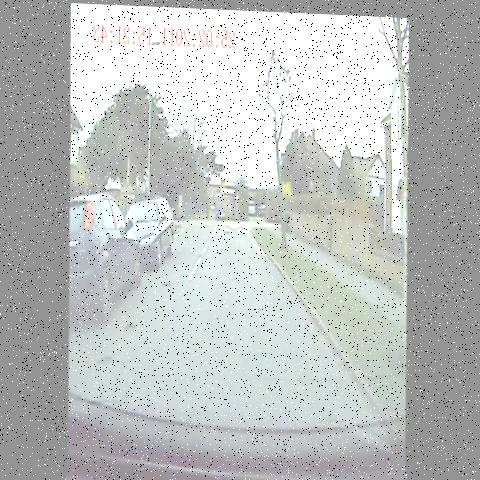pothole: (93, 342, 118, 378), (111, 310, 143, 338), (157, 268, 174, 299)
